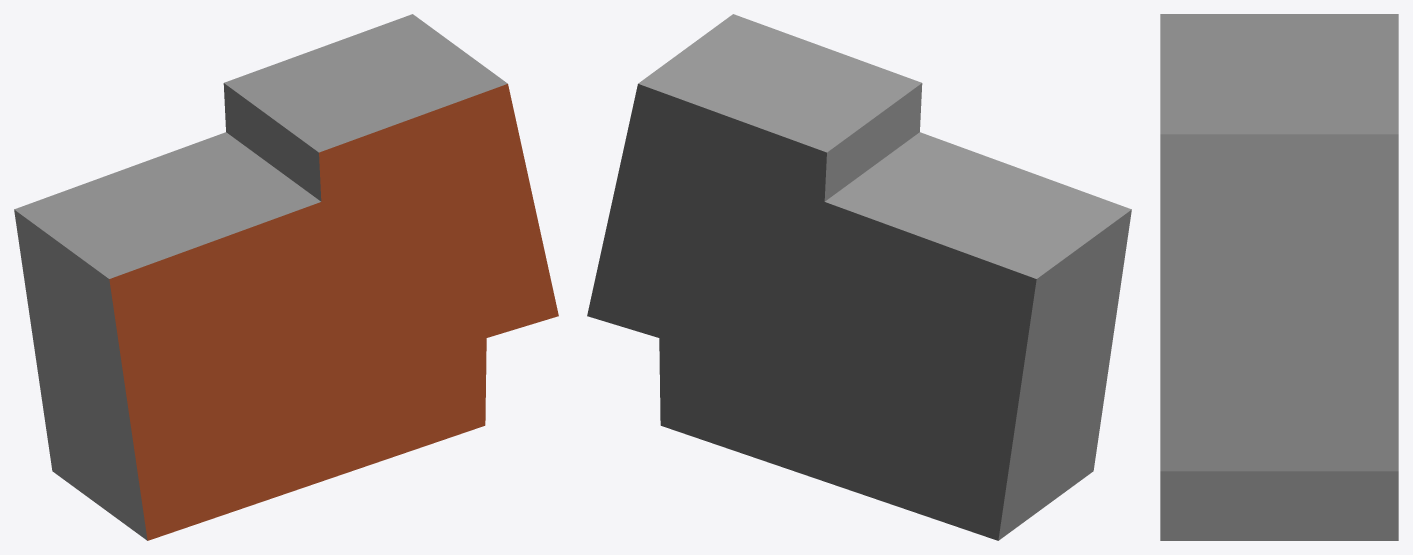
The model's file is construction_2298_assumed_A_Casa_h6m.obj.
3 views of the same model, side by side, from view 1: azimuth 30°, elevation 25°; view 2: azimuth 150°, elevation 25°; view 3: azimuth 270°, elevation 25° (orthographic). The views are drawn at different scales.
Parts seen in each view (by area): view 1: construction_2298_assumed_A_Casa; view 2: construction_2298_assumed_A_Casa; view 3: construction_2298_assumed_A_Casa.
Part boxes in pixels (bbox=[...]): construction_2298_assumed_A_Casa: bbox=[14, 14, 558, 540]; construction_2298_assumed_A_Casa: bbox=[587, 14, 1131, 540]; construction_2298_assumed_A_Casa: bbox=[1160, 14, 1398, 540].
Size of the model in its own units: 16.35 by 12.83 by 6.
